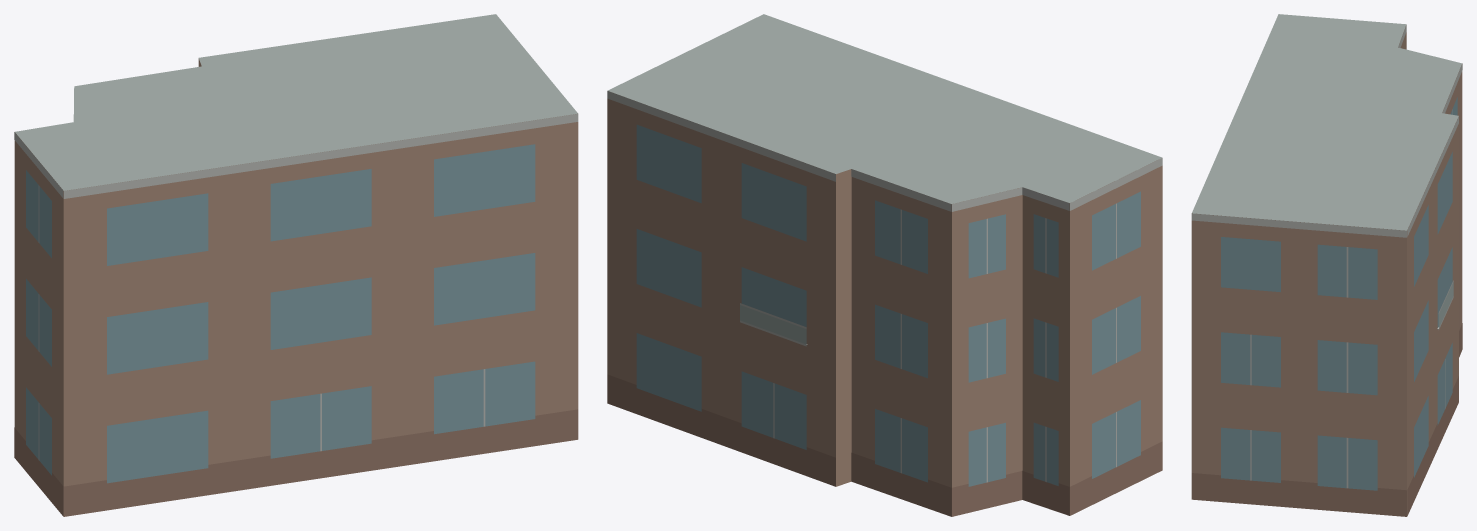
The model's file is survey-upis-32529300.glb.
The picture shows the model from 3 angles, left to right: view 1: azimuth 30°, elevation 25°; view 2: azimuth 150°, elevation 25°; view 3: azimuth 270°, elevation 25°; orthographic projection. The views are drawn at different scales.
Parts seen in each view (by area): view 1: survey-upis-32529300.tmp; view 2: survey-upis-32529300.tmp; view 3: survey-upis-32529300.tmp.
Part boxes in pixels (<box>): survey-upis-32529300.tmp: <box>14,14,578,516</box>; survey-upis-32529300.tmp: <box>607,14,1162,516</box>; survey-upis-32529300.tmp: <box>1191,14,1462,516</box>.
Bounding box in the file's own units: 15.84 × 9.75 × 8.37.
